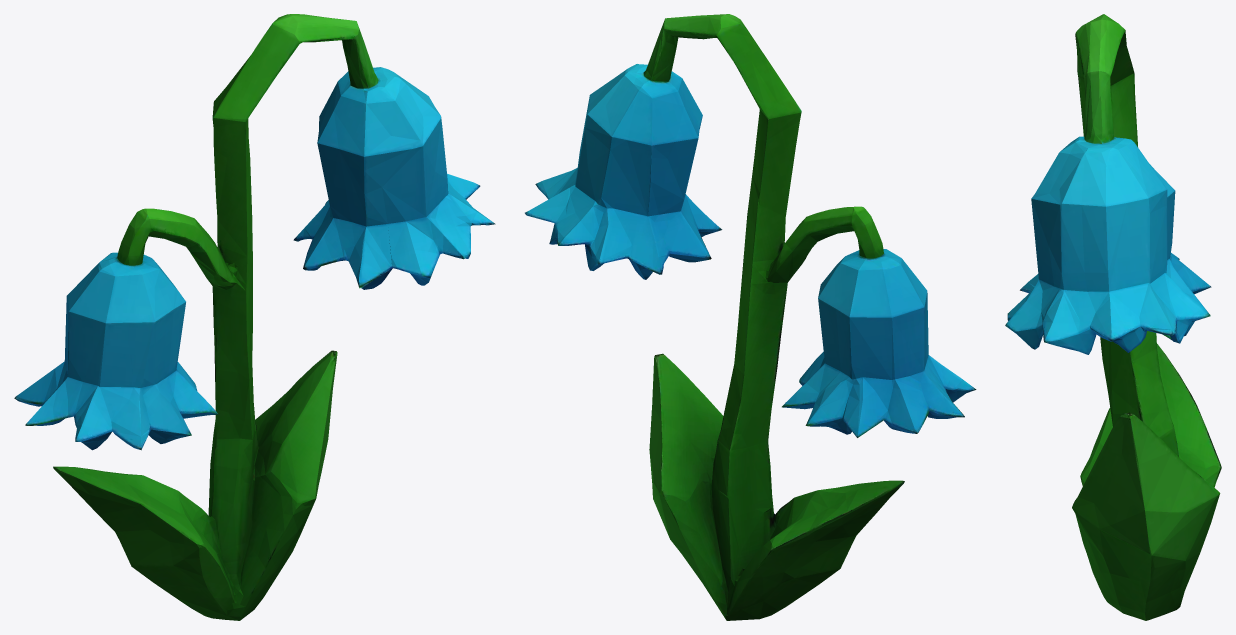
Rendered from bluebell.glb.
The picture shows the model from 3 angles, left to right: view 1: azimuth 30°, elevation 25°; view 2: azimuth 150°, elevation 25°; view 3: azimuth 270°, elevation 25°; orthographic projection. The views are drawn at different scales.
Parts seen in each view (by area): view 1: world; view 2: world; view 3: world.
Boxes of the visible parts, x1,y1,x2,y2 form: world: [14, 14, 495, 620]; world: [525, 14, 976, 620]; world: [1005, 14, 1221, 620].
Bounding box in the file's own units: 0.791 × 0.9991 × 0.3212.
Materials: 1 (1 with a texture image).
